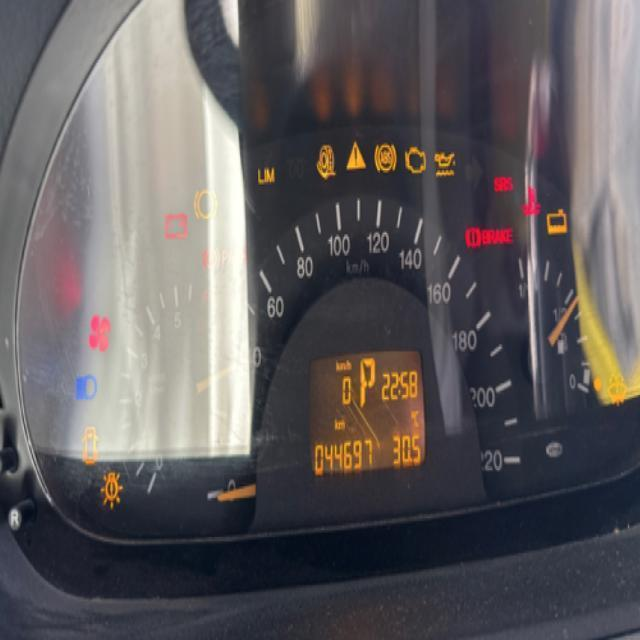High Engine Coolant Temperature: (518, 182, 544, 220)
